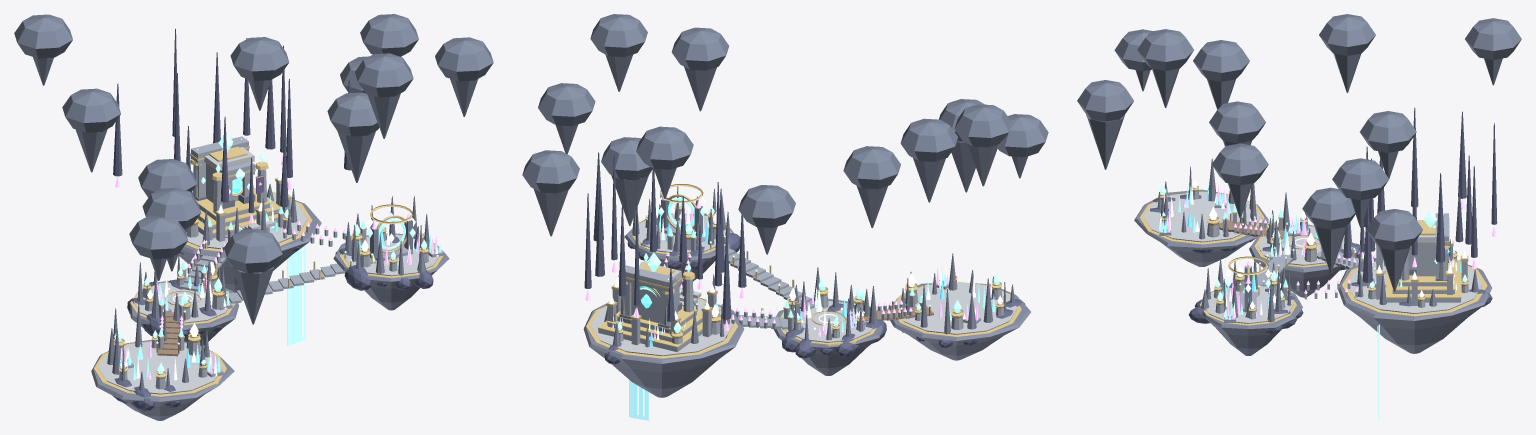
File: CrystalCaverns_Enhanced_Yup_Mobile.glb
The picture shows the model from 3 angles, left to right: view 1: azimuth 30°, elevation 25°; view 2: azimuth 150°, elevation 25°; view 3: azimuth 270°, elevation 25°; orthographic projection. The views are drawn at different scales.
Parts seen in each view (by area): view 1: CrystalCaverns_Base_9, CrystalCaverns_Enhanced_Yup_Mobile.glb_shadow, CrystalCaverns_Base_10, CrystalCaverns_Base_8, CrystalCaverns_Base_12, CrystalCaverns_Enhanced_Yup_Mobile.glb_slate, CrystalCaverns_Base_11, CrystalCaverns_Enhanced_Yup_Mobile.glb_stone, CrystalCaverns_Base_0, CrystalCaverns_Enhanced_Yup_Mobile.glb_cyan, CrystalCaverns_Base_6, CrystalCaverns_Enhanced_Yup_Mobile.glb_purple (+4 smaller); view 2: CrystalCaverns_Base_9, CrystalCaverns_Enhanced_Yup_Mobile.glb_shadow, CrystalCaverns_Base_12, CrystalCaverns_Base_10, CrystalCaverns_Base_8, CrystalCaverns_Enhanced_Yup_Mobile.glb_slate, CrystalCaverns_Base_11, CrystalCaverns_Enhanced_Yup_Mobile.glb_stone, CrystalCaverns_Enhanced_Yup_Mobile.glb_purple, CrystalCaverns_Base_6, CrystalCaverns_Enhanced_Yup_Mobile.glb_cyan, CrystalCaverns_Enhanced_Yup_Mobile.glb_ice (+3 smaller); view 3: CrystalCaverns_Base_9, CrystalCaverns_Base_12, CrystalCaverns_Base_10, CrystalCaverns_Enhanced_Yup_Mobile.glb_shadow, CrystalCaverns_Base_11, CrystalCaverns_Enhanced_Yup_Mobile.glb_slate, CrystalCaverns_Base_8, CrystalCaverns_Enhanced_Yup_Mobile.glb_stone, CrystalCaverns_Enhanced_Yup_Mobile.glb_purple, CrystalCaverns_Enhanced_Yup_Mobile.glb_cyan, CrystalCaverns_Base_6, CrystalCaverns_Enhanced_Yup_Mobile.glb_ice (+2 smaller).
Part boxes in pixels (bbox=[...]): CrystalCaverns_Base_9: bbox=[14, 14, 493, 324]; CrystalCaverns_Enhanced_Yup_Mobile.glb_shadow: bbox=[112, 28, 433, 411]; CrystalCaverns_Base_10: bbox=[98, 147, 438, 394]; CrystalCaverns_Base_8: bbox=[119, 136, 428, 389]; CrystalCaverns_Base_12: bbox=[91, 192, 449, 420]; CrystalCaverns_Enhanced_Yup_Mobile.glb_slate: bbox=[107, 184, 429, 390]; CrystalCaverns_Base_11: bbox=[93, 146, 443, 396]; CrystalCaverns_Enhanced_Yup_Mobile.glb_stone: bbox=[125, 175, 444, 377]; CrystalCaverns_Base_0: bbox=[287, 245, 305, 345]; CrystalCaverns_Enhanced_Yup_Mobile.glb_cyan: bbox=[120, 196, 441, 380]; CrystalCaverns_Base_6: bbox=[114, 133, 427, 374]; CrystalCaverns_Enhanced_Yup_Mobile.glb_purple: bbox=[115, 137, 437, 379]; CrystalCaverns_Base_9: bbox=[522, 14, 1048, 332]; CrystalCaverns_Enhanced_Yup_Mobile.glb_shadow: bbox=[584, 152, 1025, 364]; CrystalCaverns_Base_12: bbox=[583, 213, 1030, 397]; CrystalCaverns_Base_10: bbox=[591, 213, 1017, 356]; CrystalCaverns_Base_8: bbox=[598, 210, 1004, 352]; CrystalCaverns_Enhanced_Yup_Mobile.glb_slate: bbox=[604, 186, 1015, 347]; CrystalCaverns_Base_11: bbox=[586, 184, 1021, 358]; CrystalCaverns_Enhanced_Yup_Mobile.glb_stone: bbox=[607, 214, 980, 345]; CrystalCaverns_Enhanced_Yup_Mobile.glb_purple: bbox=[585, 196, 985, 338]; CrystalCaverns_Base_6: bbox=[617, 192, 1000, 333]; CrystalCaverns_Enhanced_Yup_Mobile.glb_cyan: bbox=[613, 198, 995, 334]; CrystalCaverns_Enhanced_Yup_Mobile.glb_ice: bbox=[609, 203, 975, 339]; CrystalCaverns_Base_9: bbox=[1077, 14, 1521, 291]; CrystalCaverns_Base_12: bbox=[1134, 189, 1491, 355]; CrystalCaverns_Base_10: bbox=[1144, 192, 1482, 323]; CrystalCaverns_Enhanced_Yup_Mobile.glb_shadow: bbox=[1150, 107, 1497, 333]; CrystalCaverns_Base_11: bbox=[1139, 185, 1487, 325]; CrystalCaverns_Enhanced_Yup_Mobile.glb_slate: bbox=[1157, 158, 1478, 322]; CrystalCaverns_Base_8: bbox=[1160, 191, 1468, 319]; CrystalCaverns_Enhanced_Yup_Mobile.glb_stone: bbox=[1159, 200, 1467, 322]; CrystalCaverns_Enhanced_Yup_Mobile.glb_purple: bbox=[1162, 186, 1496, 319]; CrystalCaverns_Enhanced_Yup_Mobile.glb_cyan: bbox=[1160, 186, 1454, 322]; CrystalCaverns_Base_6: bbox=[1159, 184, 1467, 300]; CrystalCaverns_Enhanced_Yup_Mobile.glb_ice: bbox=[1159, 184, 1467, 318].
Bounding box in the file's own units: 48.68 × 37.92 × 48.16.
